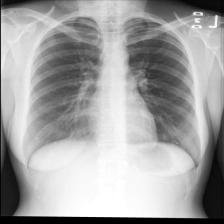normal: (19, 12, 205, 168)
